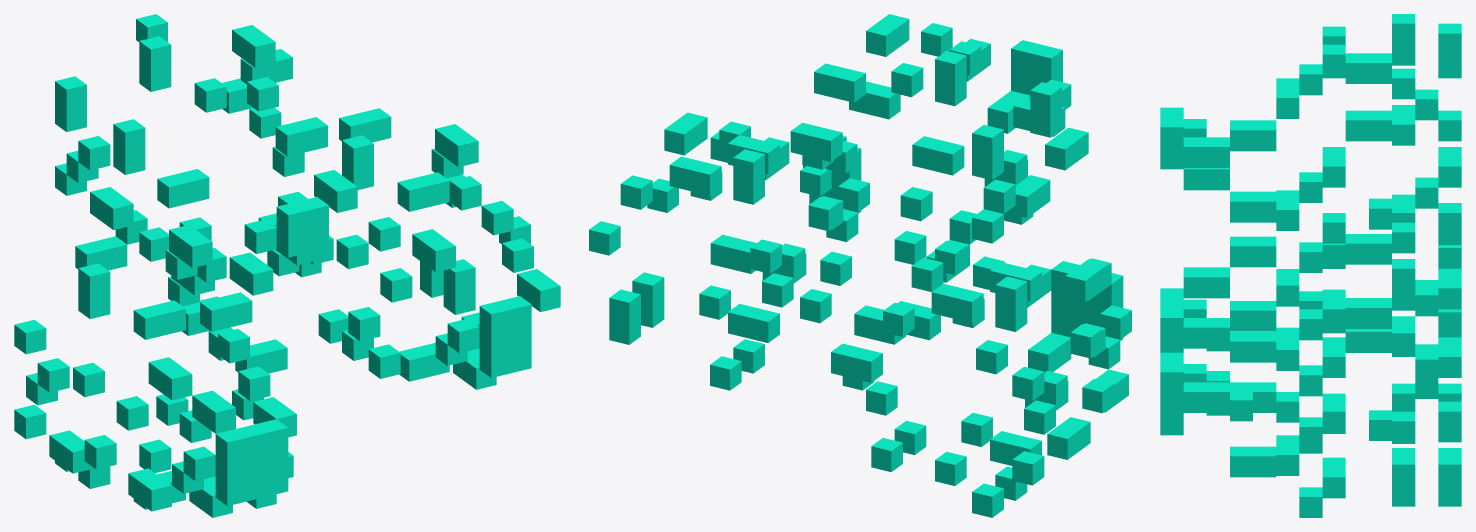
Rendered from ShotgunFeedback.fbx.
3 renders of one model, left to right at view 1: azimuth 30°, elevation 25°; view 2: azimuth 150°, elevation 25°; view 3: azimuth 270°, elevation 25°, orthographic.
Visible parts, largest first — view 1: ShotgunFeedback; view 2: ShotgunFeedback; view 3: ShotgunFeedback.
Boxes of the visible parts, <box> form: ShotgunFeedback: <box>14,14,560,517</box>; ShotgunFeedback: <box>589,14,1131,517</box>; ShotgunFeedback: <box>1160,14,1461,517</box>.
Size of the model in its own units: 22 by 20 by 13.
